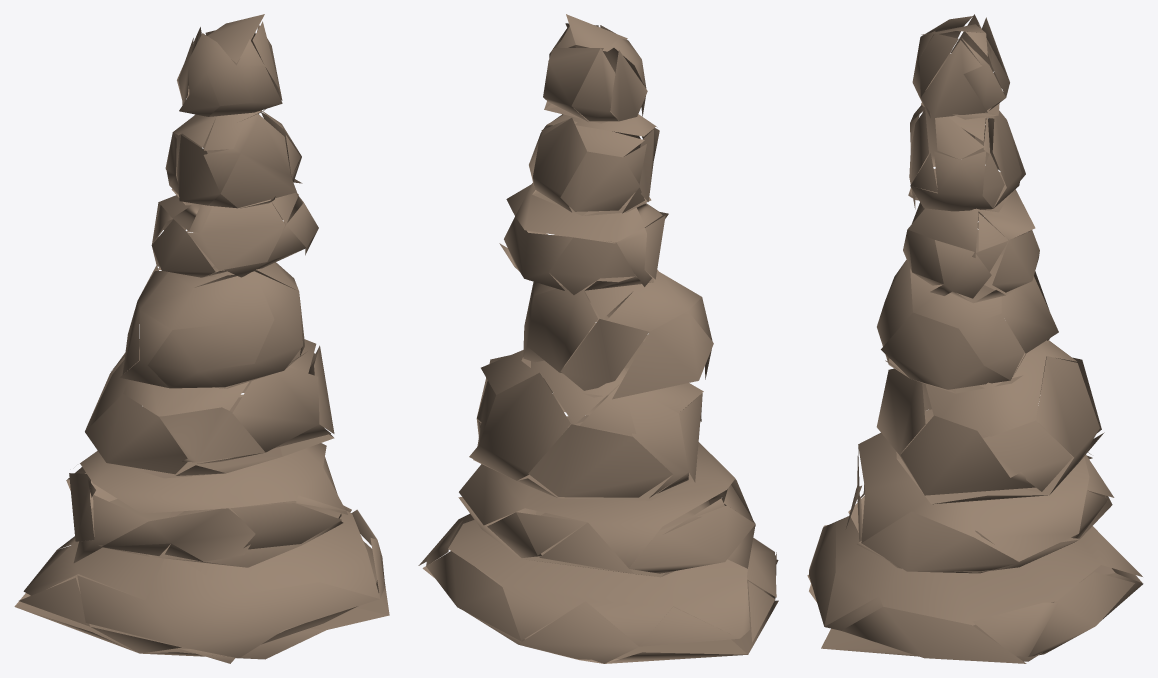
File: cairn-lod1.glb
The picture shows the model from 3 angles, left to right: view 1: azimuth 30°, elevation 25°; view 2: azimuth 150°, elevation 25°; view 3: azimuth 270°, elevation 25°; orthographic projection. The views are drawn at different scales.
Parts seen in each view (by area): view 1: cairn; view 2: cairn; view 3: cairn.
Part boxes in pixels (bbox=[...]): cairn: bbox=[14, 14, 389, 663]; cairn: bbox=[418, 14, 778, 663]; cairn: bbox=[807, 14, 1143, 663].
Bounding box in the file's own units: 1.23 × 2.04 × 1.04.
